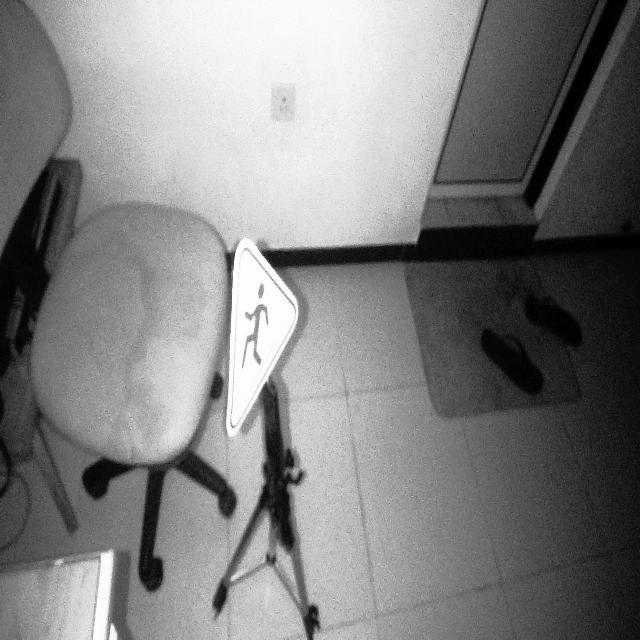Sign: (225, 237, 301, 440)
